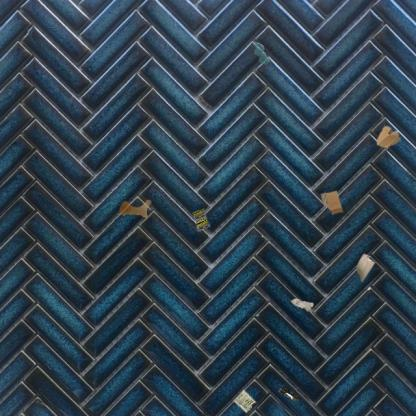dirty: (231, 388, 258, 416), (354, 252, 376, 284), (375, 124, 402, 150), (319, 189, 344, 215), (191, 207, 211, 232), (277, 384, 301, 404), (290, 297, 314, 313)
liquid: (118, 198, 153, 219), (253, 42, 272, 64)
